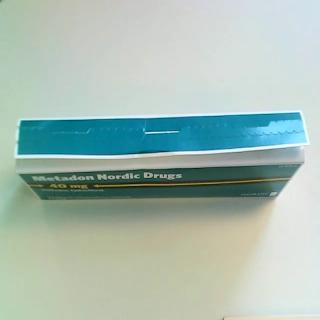metadon_hydrochlorid40mg: (13, 108, 311, 206)
